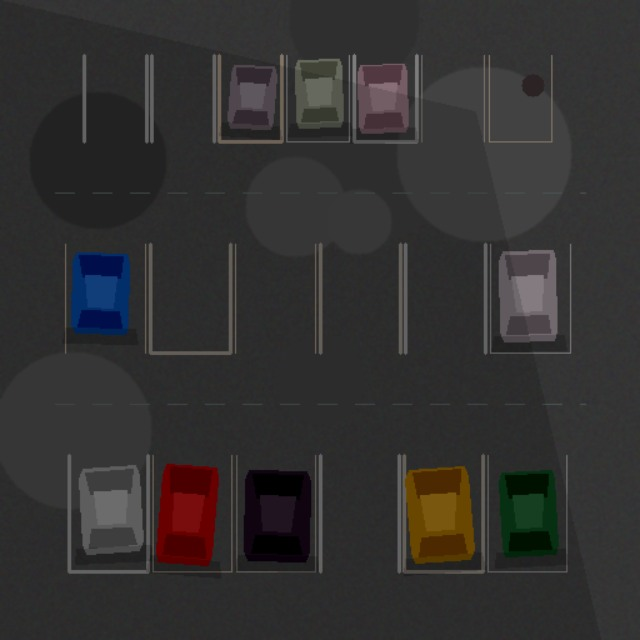space-empty: (320, 455, 399, 571), (150, 244, 230, 352), (235, 244, 315, 352), (320, 244, 400, 352), (405, 244, 485, 352), (151, 55, 214, 141), (421, 55, 484, 141), (84, 55, 146, 141), (489, 55, 551, 141)
space-occupied: (236, 455, 315, 571), (404, 455, 483, 571), (487, 455, 566, 571), (69, 455, 147, 571), (153, 455, 231, 571), (65, 244, 145, 352), (490, 244, 570, 352), (286, 55, 349, 141), (219, 55, 281, 141), (354, 55, 416, 141)
